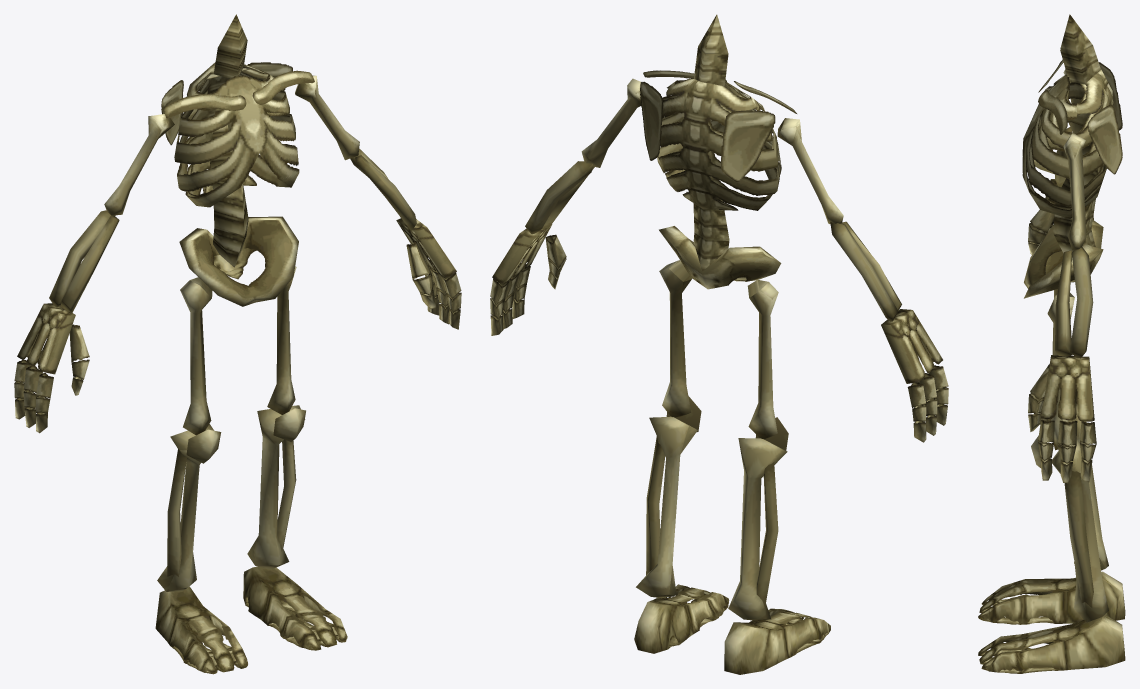
Rendered from skel_headless_dba387ba.glb.
The picture shows the model from 3 angles, left to right: view 1: azimuth 30°, elevation 25°; view 2: azimuth 150°, elevation 25°; view 3: azimuth 270°, elevation 25°; orthographic projection. The views are drawn at different scales.
Size of the model in its own units: 1.7 by 2.33 by 0.5036.
Materials: 1 (1 with a texture image).
